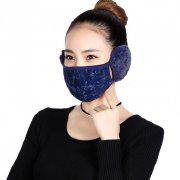OK: (61, 46, 118, 99)
